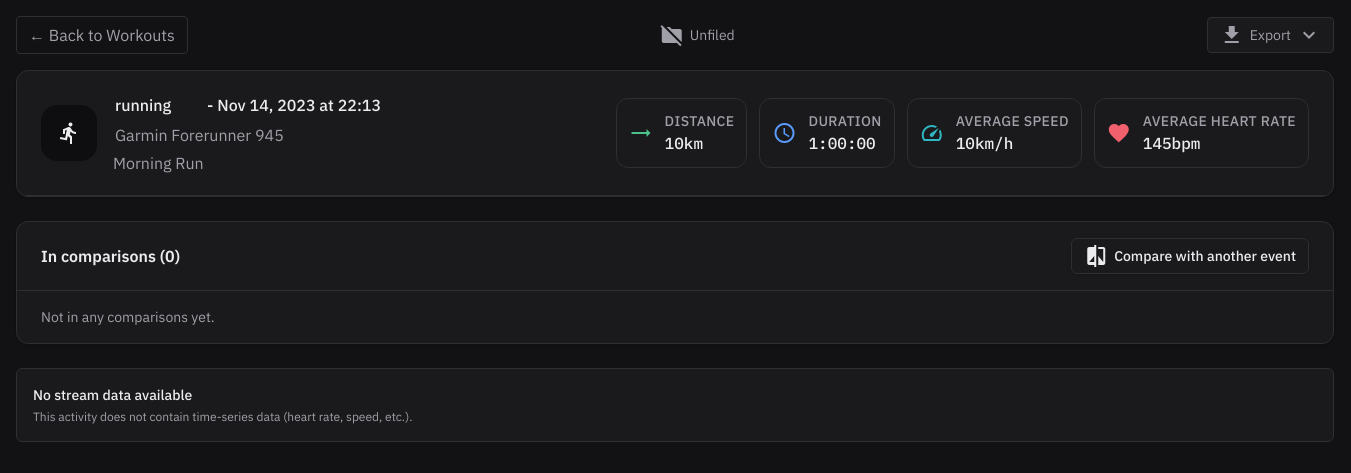
EventDetail › opens device editor and cancel closes it
Check: the text "Garmin Forerunner 945" is shown, box [115, 123, 284, 147]
Click the button "Garmin Forerunner 945". click: (213, 135)
box: [113, 121, 314, 149]
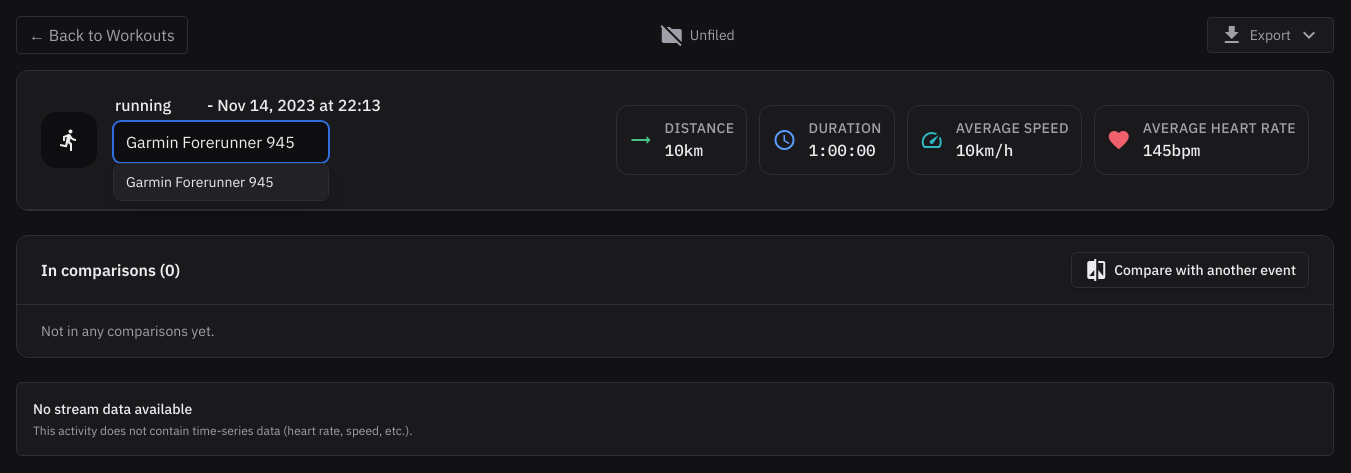
Check: the dropdown with placeholder "Device…" is shown
Press Escape in the dropdown, box [113, 121, 329, 163]
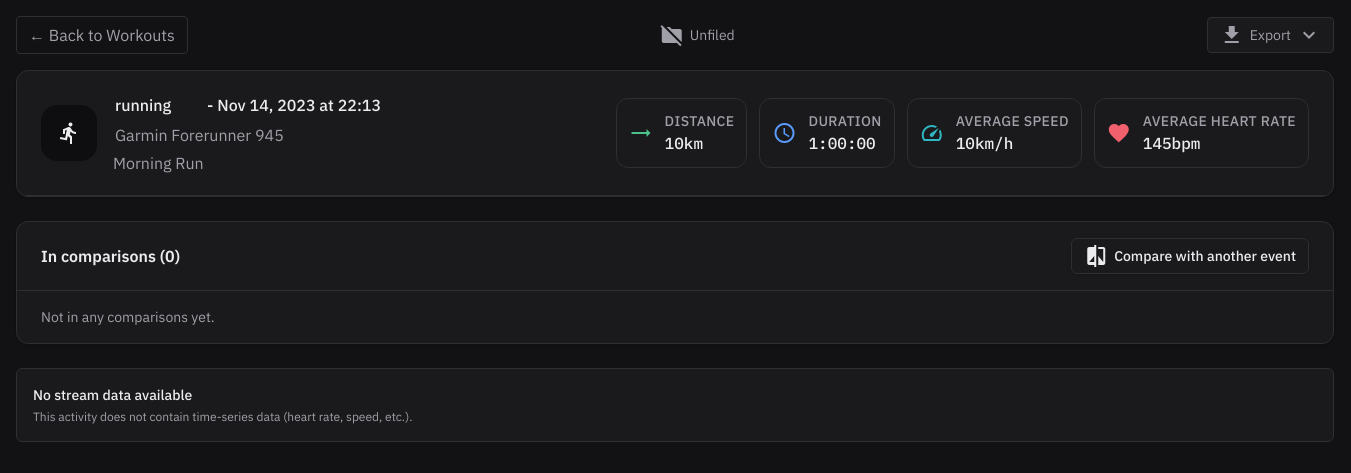
Check: the dropdown with placeholder "Device…" is gone
